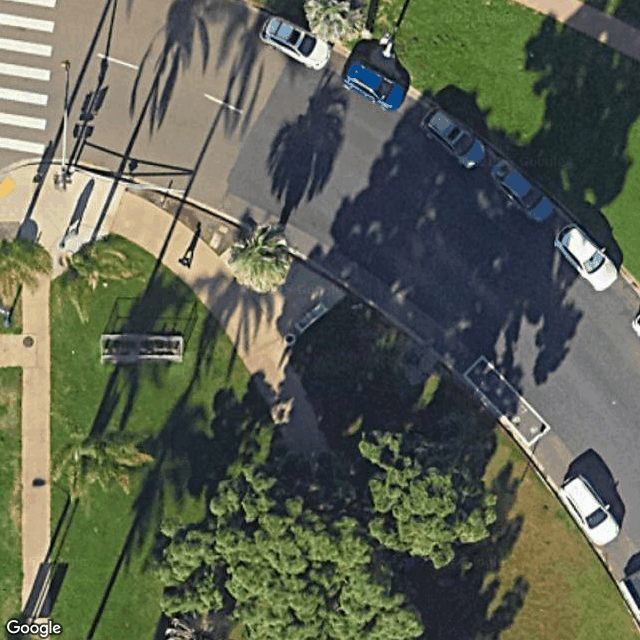palm: (45, 403, 163, 516), (221, 222, 308, 301)
